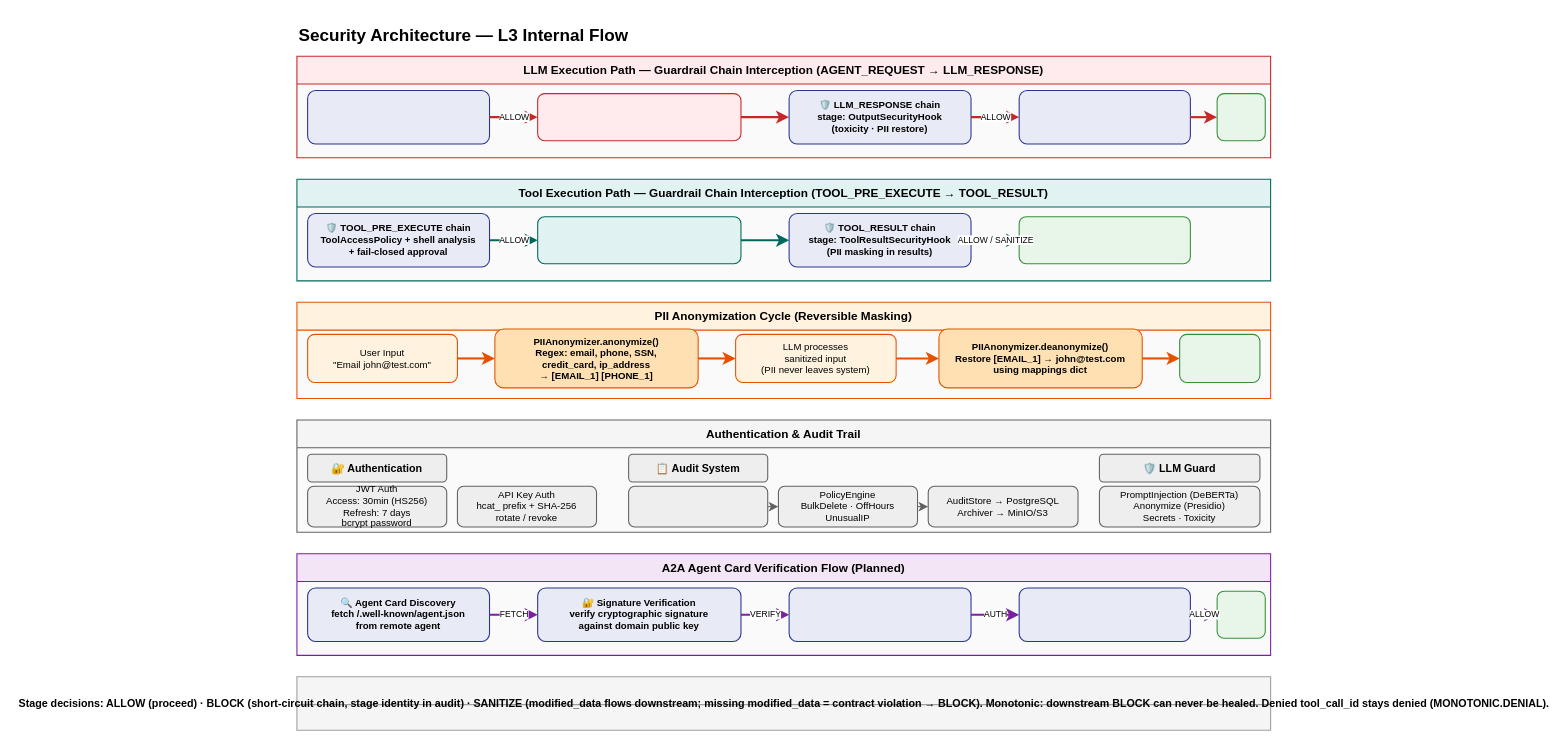
Image size: 1566x749. Some labels were removed from this diagram. Each missing label, with the centre of its shape:
"AuditBatchWriter Queue → batch(50) / 2s" belongs at (x=698, y=506).
"User Output PII restored" belongs at (x=1219, y=358).
"✅ Response → Channel" belongs at (x=1240, y=117).
"✅ Task Accepted → Channel" belongs at (x=1240, y=614).
"✅ Tool Result → Channel" belongs at (x=1104, y=240).
"📋 Task Delegation if verified → delegate if invalid → reject" belongs at (x=1104, y=614).
"📡 StreamDeanonymizer (token-level PII restore for streaming responses)" belongs at (x=1104, y=116).
"🔑 Authentication APIKey · OAuth2 · mTLS" belongs at (x=879, y=614).
"🔧 Tool Execution (built-in / custom / MCP)" belongs at (x=639, y=240).
"🛡️ AGENT_REQUEST chain stage: InputSecurityHook (injection · secrets · PII)" belongs at (x=398, y=116).
"🧠 LLM API Call (via EnginePort.llm_invoke)" belongs at (x=639, y=117).
